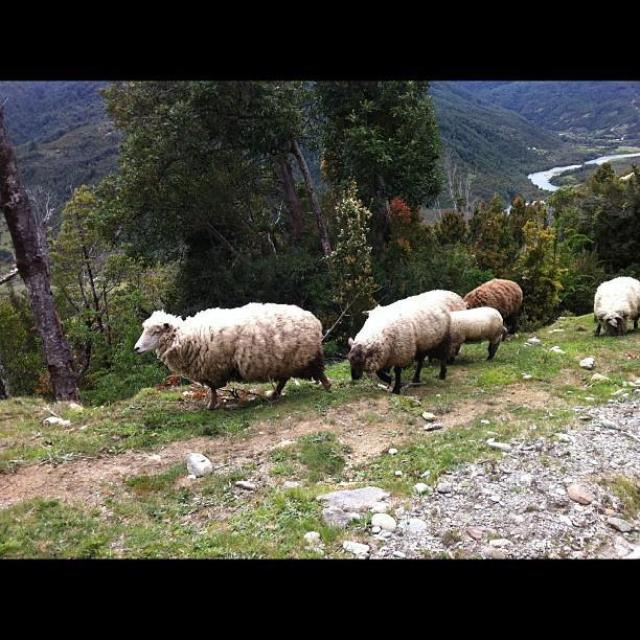Sheep: (136, 304, 332, 411), (347, 298, 451, 395), (462, 278, 523, 333), (592, 273, 639, 339), (450, 307, 505, 363)
